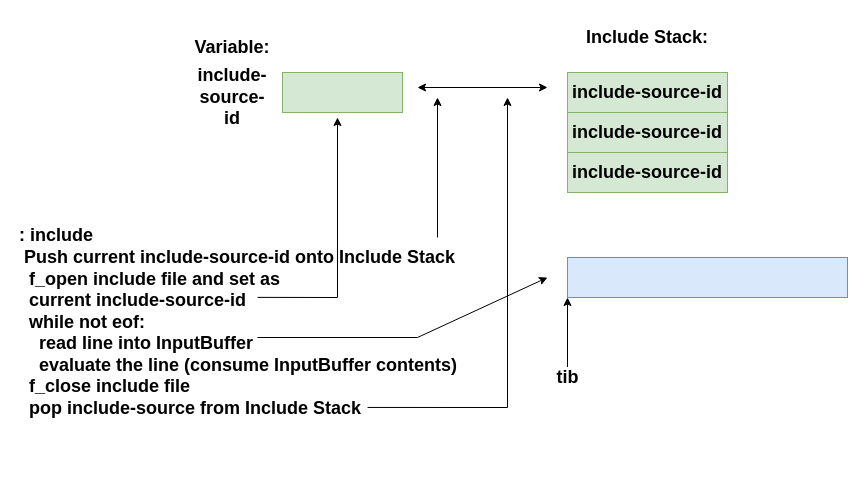
The diagram is 865 pixels wide and 494 high, and some of its shapes have lost their labels. Here are the shapes that lost their labels. From the top down, the centre of each, then its label:
At (x=342, y=92): "fil".
At (x=707, y=277): "InputBuffer".
